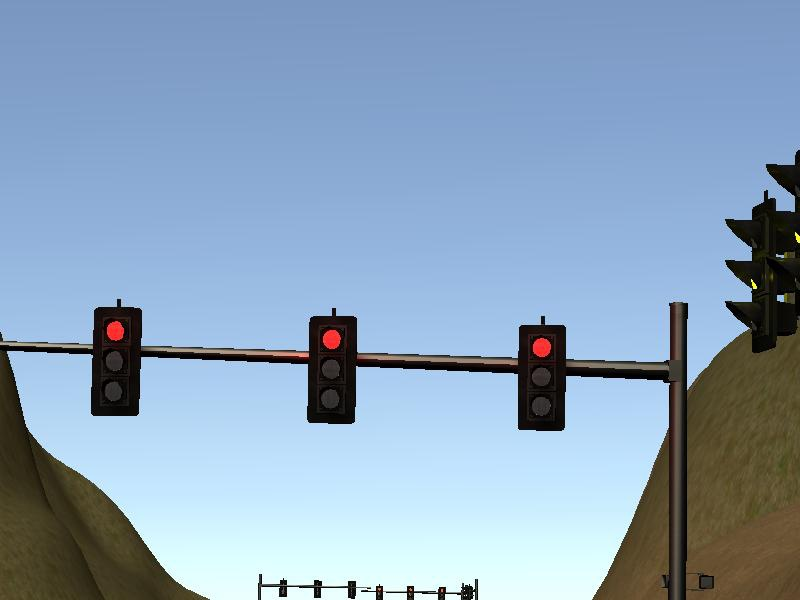Red: (86, 306, 145, 419), (302, 314, 361, 427), (514, 322, 570, 433)
